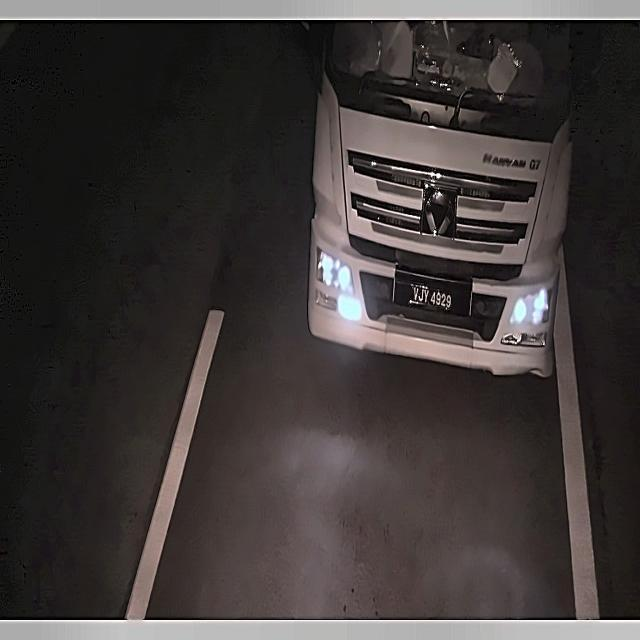car: (390, 261, 476, 325)
